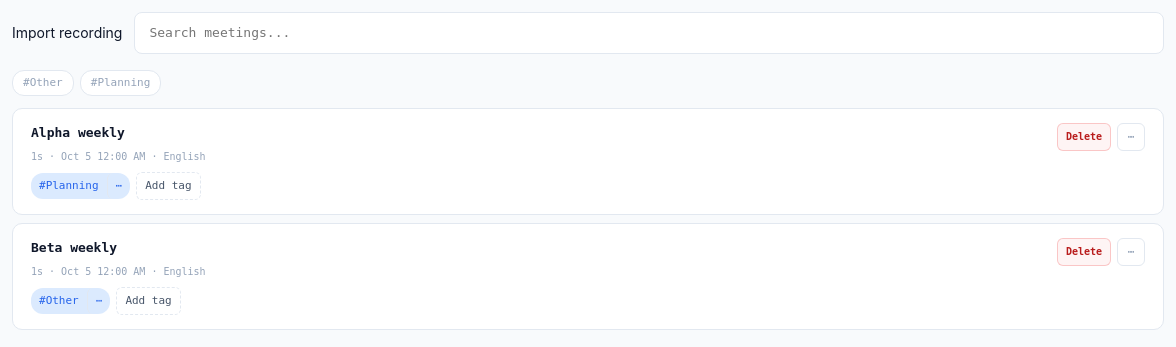
Test: deleting a filtered tag clears its filter without clearing text search
The width and height of the screenshot is (1176, 347).
Type "weekly" into the search field with placeholder "Search meetings..." at coordinates (649, 33), box [134,12,1164,54]
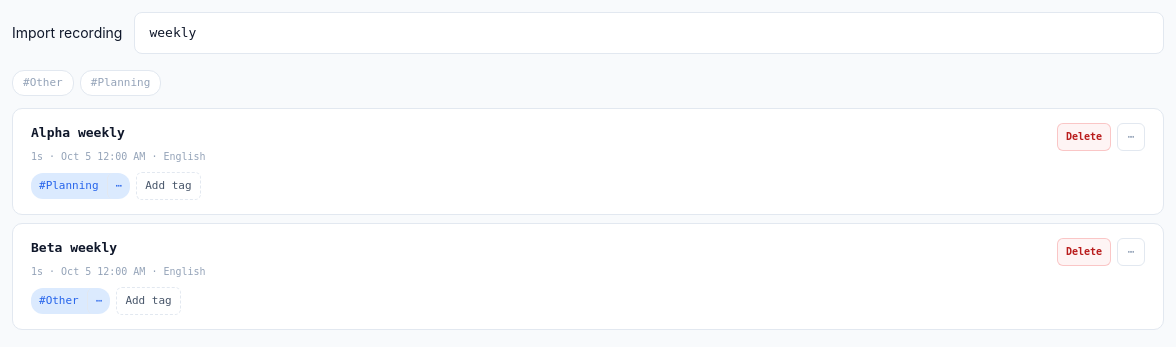
Click the button with aria-label "Filter by Planning" at coordinates (69, 186), box [31,172,107,199]
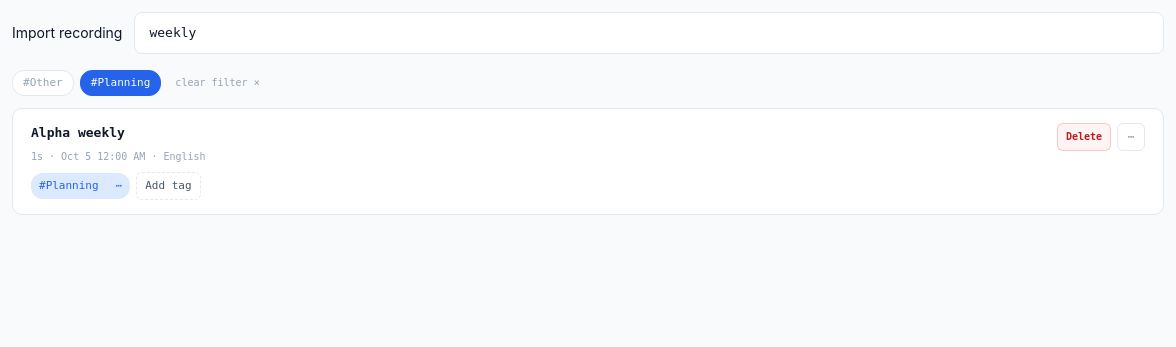
Click the button named "Tag actions for Planning" at coordinates (118, 186), box [107,172,130,199]
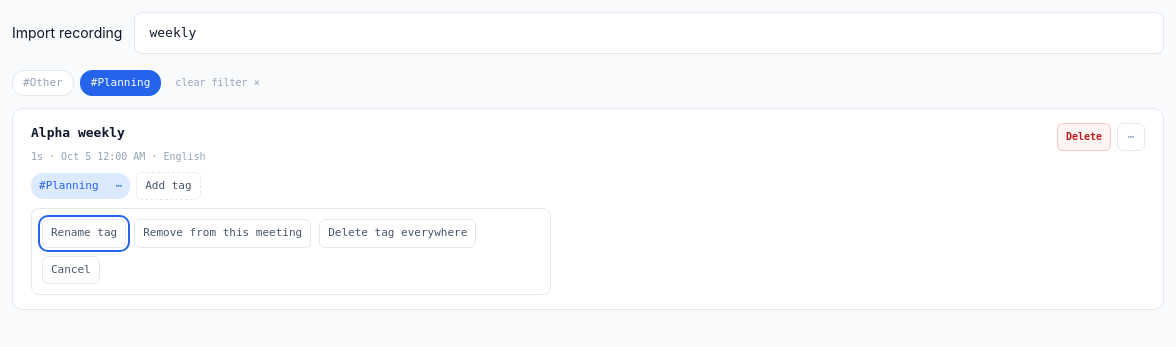
Click the button "Delete tag everywhere" at coordinates (398, 233), box [319,219,476,248]
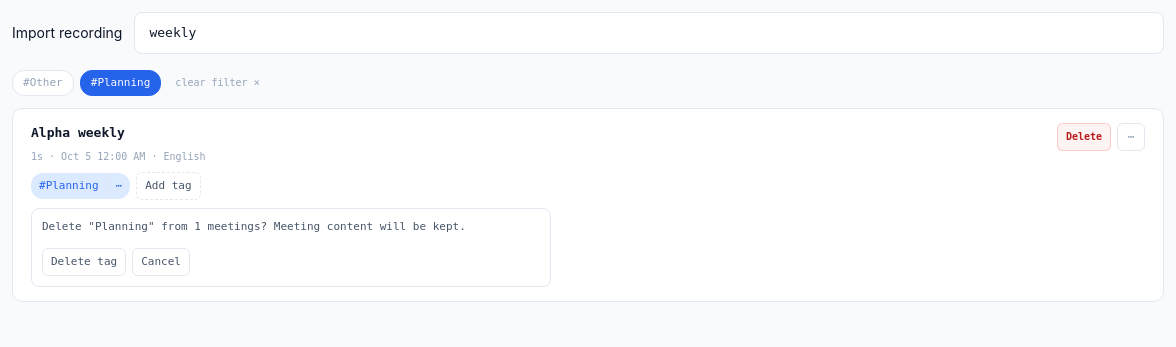
Click the button "Delete tag" at coordinates (84, 262), box [42,248,126,276]
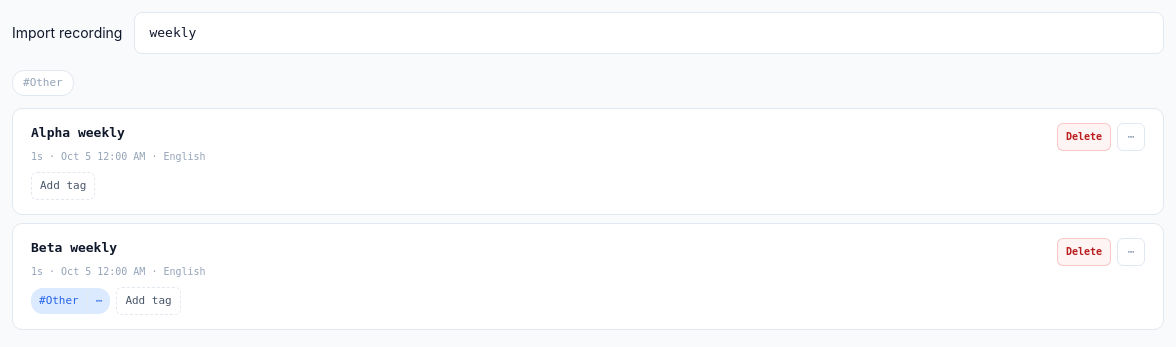
expect the text "Beta weekly" is shown: met, box [31,240,117,255]
